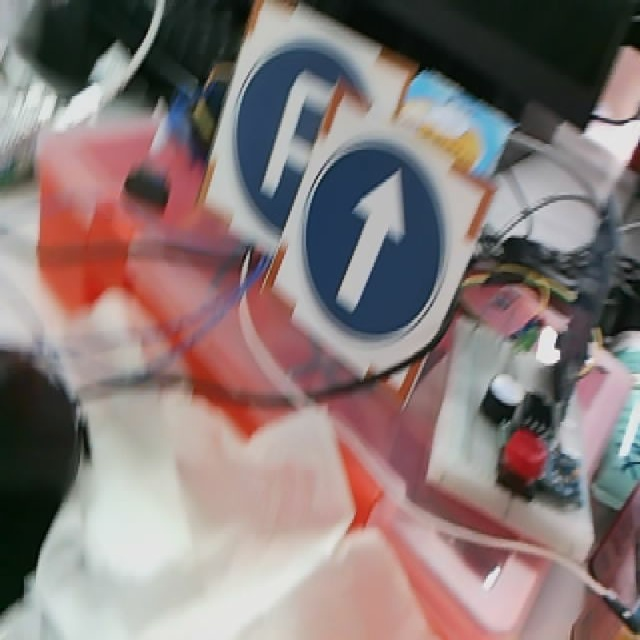parking: (206, 1, 407, 253)
straight: (274, 88, 488, 405)
